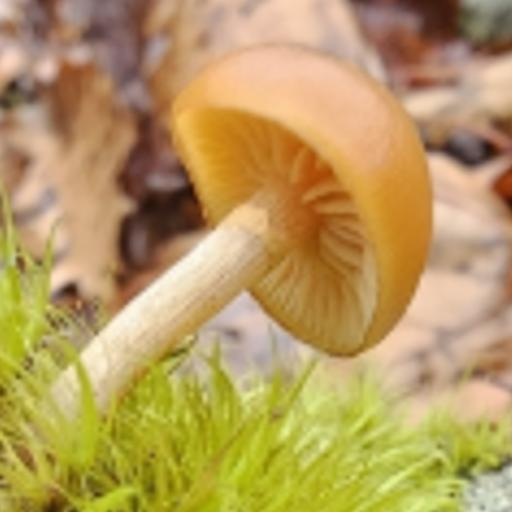mushroom: (114, 15, 449, 390)
